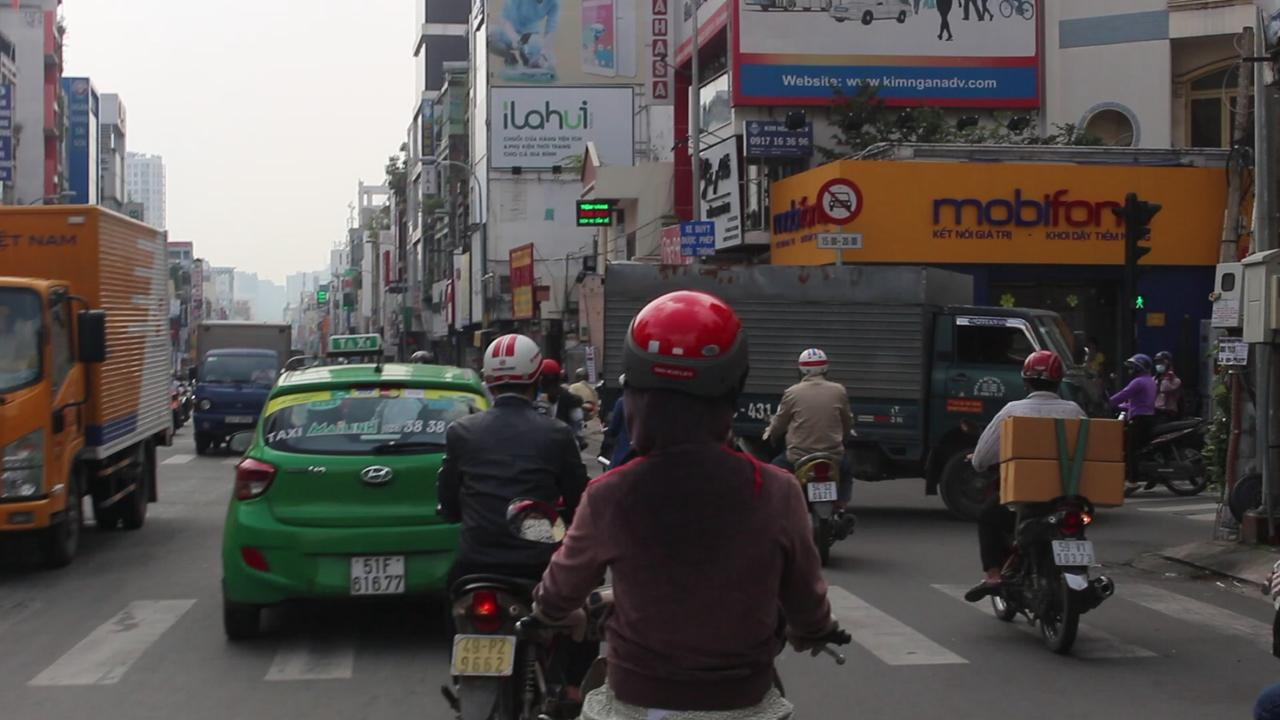P.104: (812, 175, 862, 224)
